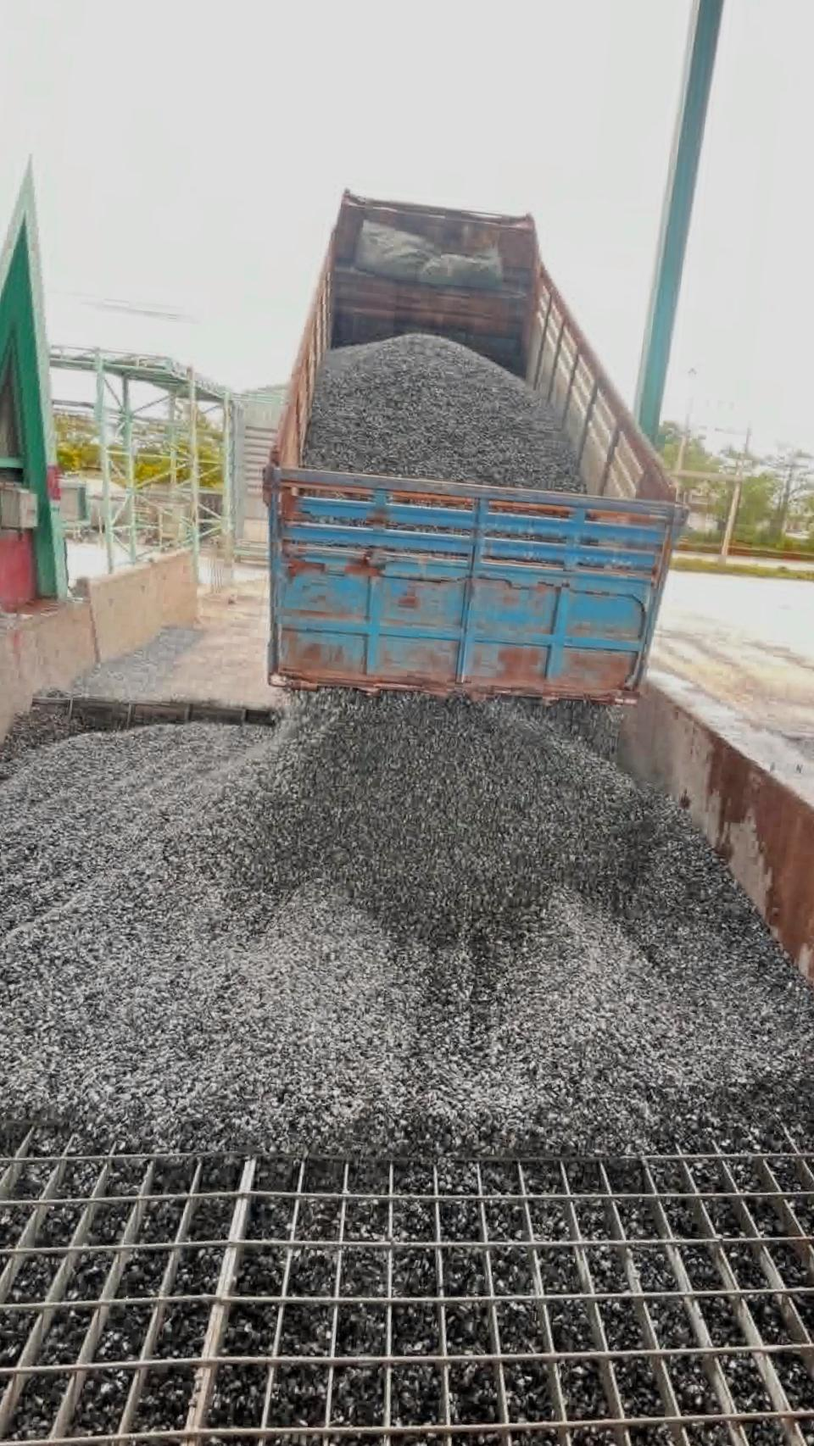gravel: (0, 692, 814, 1153), (303, 333, 584, 491), (73, 625, 202, 701), (0, 709, 88, 803), (793, 733, 814, 837), (793, 1190, 814, 1282), (805, 1418, 814, 1446)
